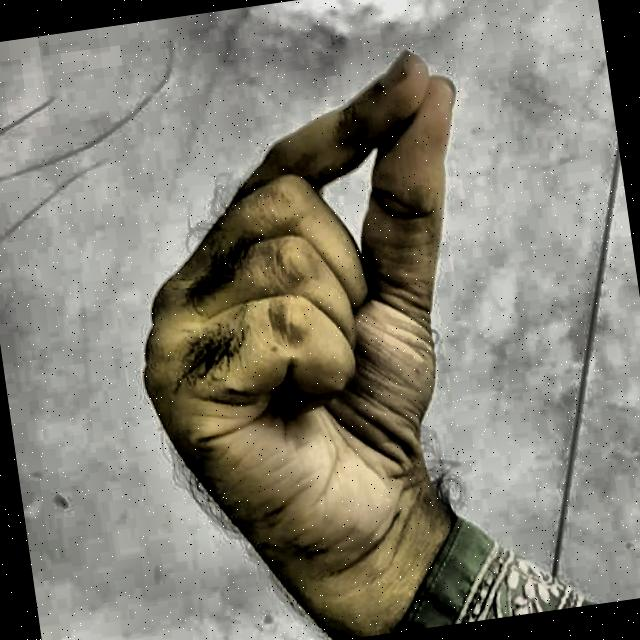Anusshar: (71, 27, 546, 639)
